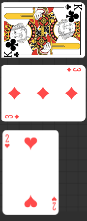2H: (4, 133, 11, 149), (51, 195, 58, 211)
3D: (66, 66, 83, 73)
